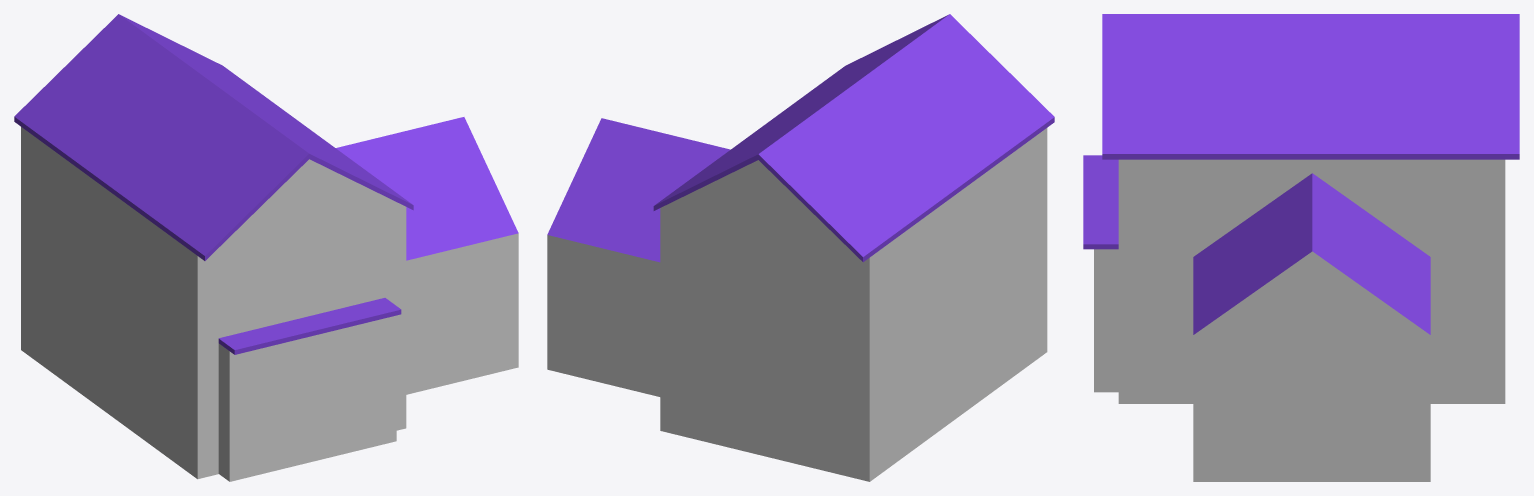
File: house2.fbx
3 views of the same model, side by side, from view 1: azimuth 30°, elevation 25°; view 2: azimuth 150°, elevation 25°; view 3: azimuth 270°, elevation 25° (orthographic). The views are drawn at different scales.
Parts seen in each view (by area): view 1: Cube; view 2: Cube; view 3: Cube.
Part boxes in pixels (box(x1,y1,x2,y2)): Cube: box(14, 14, 518, 481); Cube: box(547, 14, 1054, 481); Cube: box(1083, 14, 1519, 481).
Size of the model in its own units: 341 by 280 by 331.
